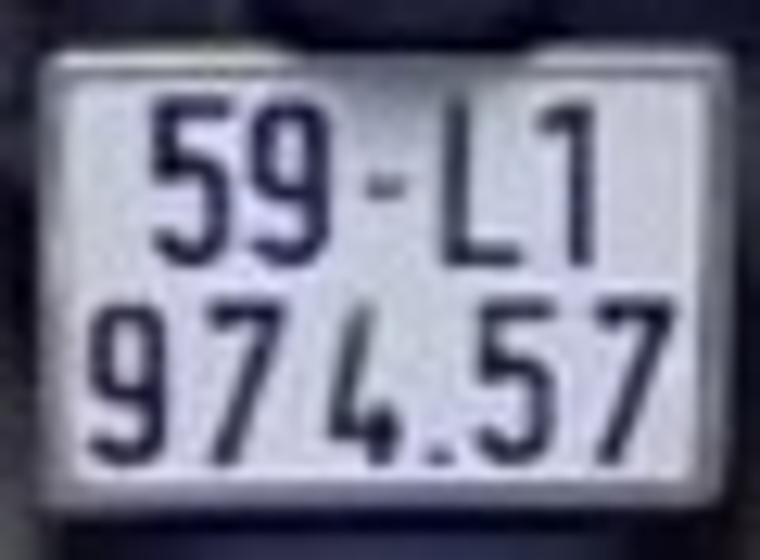-: (361, 170, 414, 215)
.: (421, 421, 466, 482)
1: (536, 89, 602, 267)
4: (317, 298, 404, 473)
5: (143, 81, 237, 272), (472, 287, 558, 477)
7: (577, 296, 681, 473), (201, 297, 289, 482)
9: (69, 290, 174, 473), (248, 87, 335, 279)
L: (432, 89, 532, 274)
